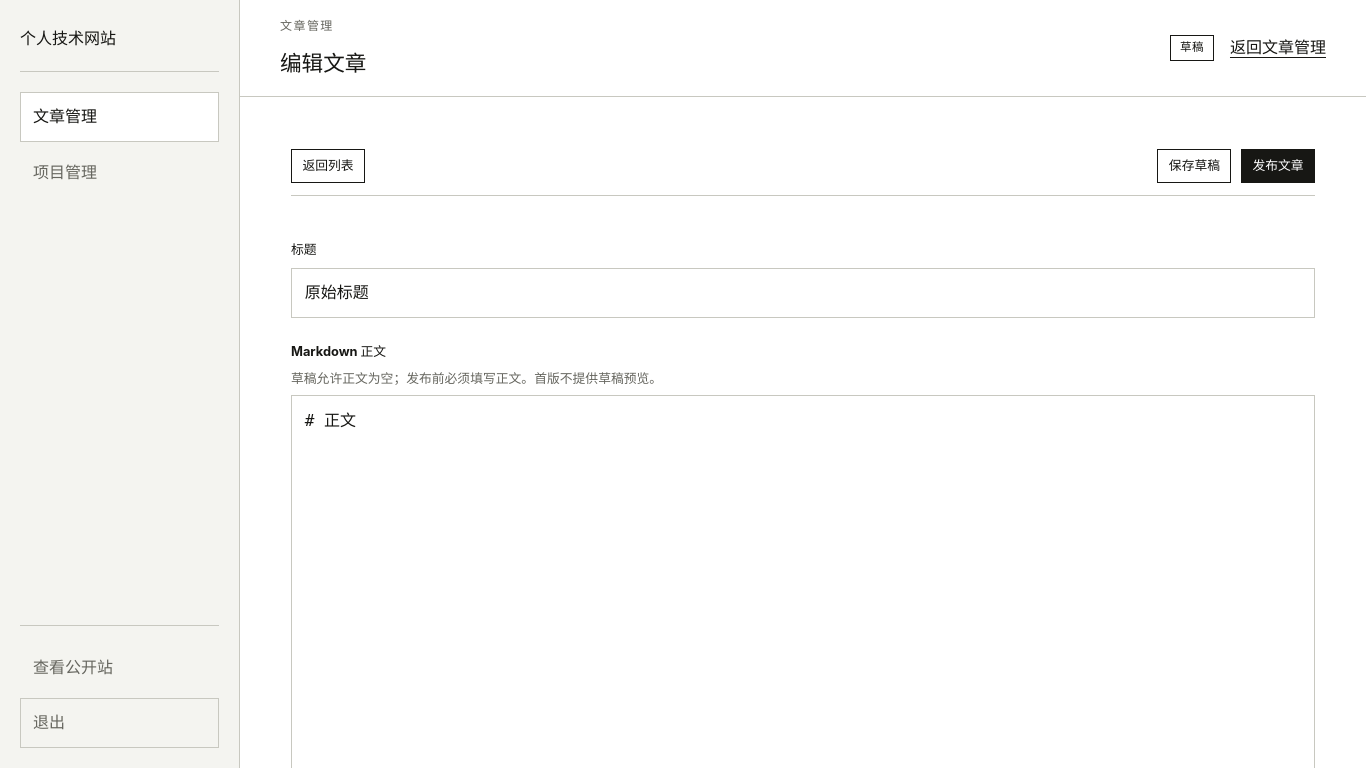
Test: 管理端路由页面 › 版本冲突读取服务器当前版本并保留表单输入
The width and height of the screenshot is (1366, 768).
Replace the text in the field with id "article-title" with "本地修改标题" at coordinates (803, 293), box [291,268,1315,318]
(page scrolled)
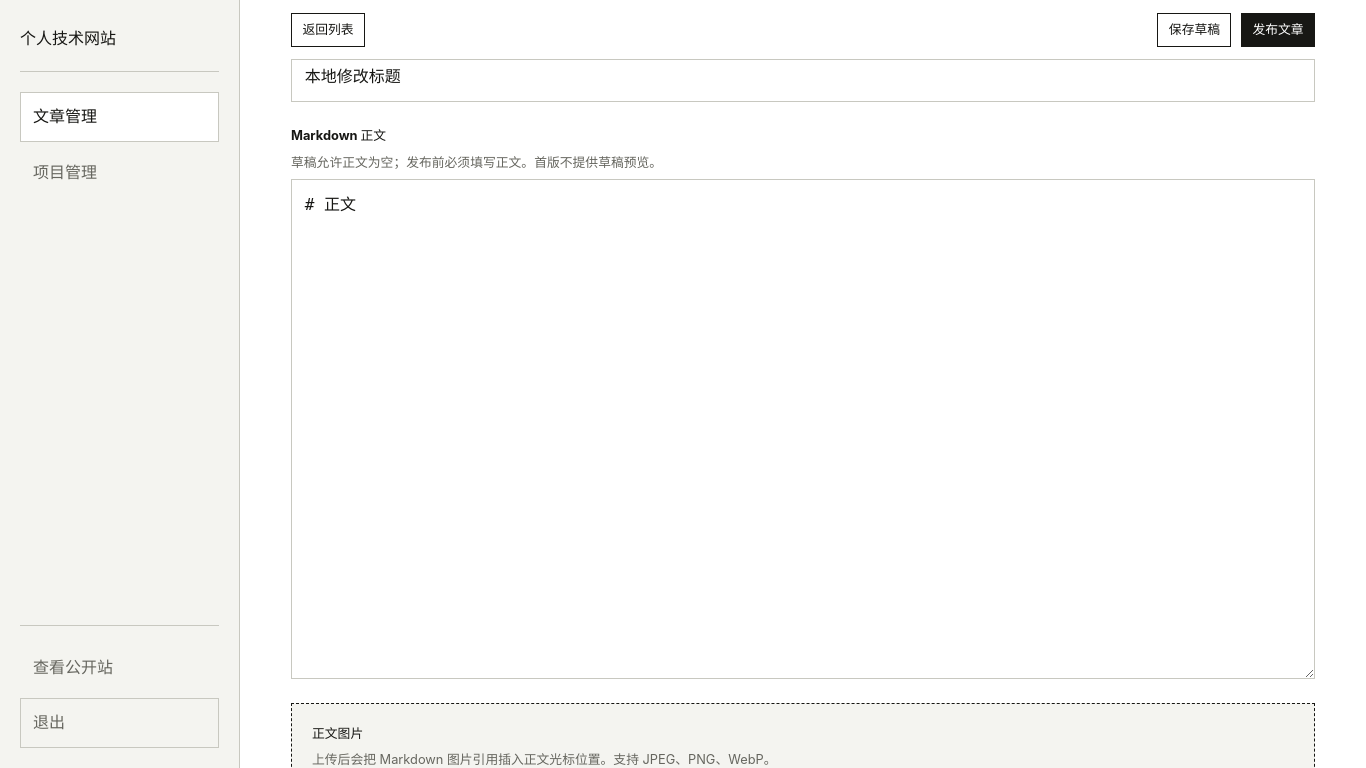
Submit the form
(page scrolled)
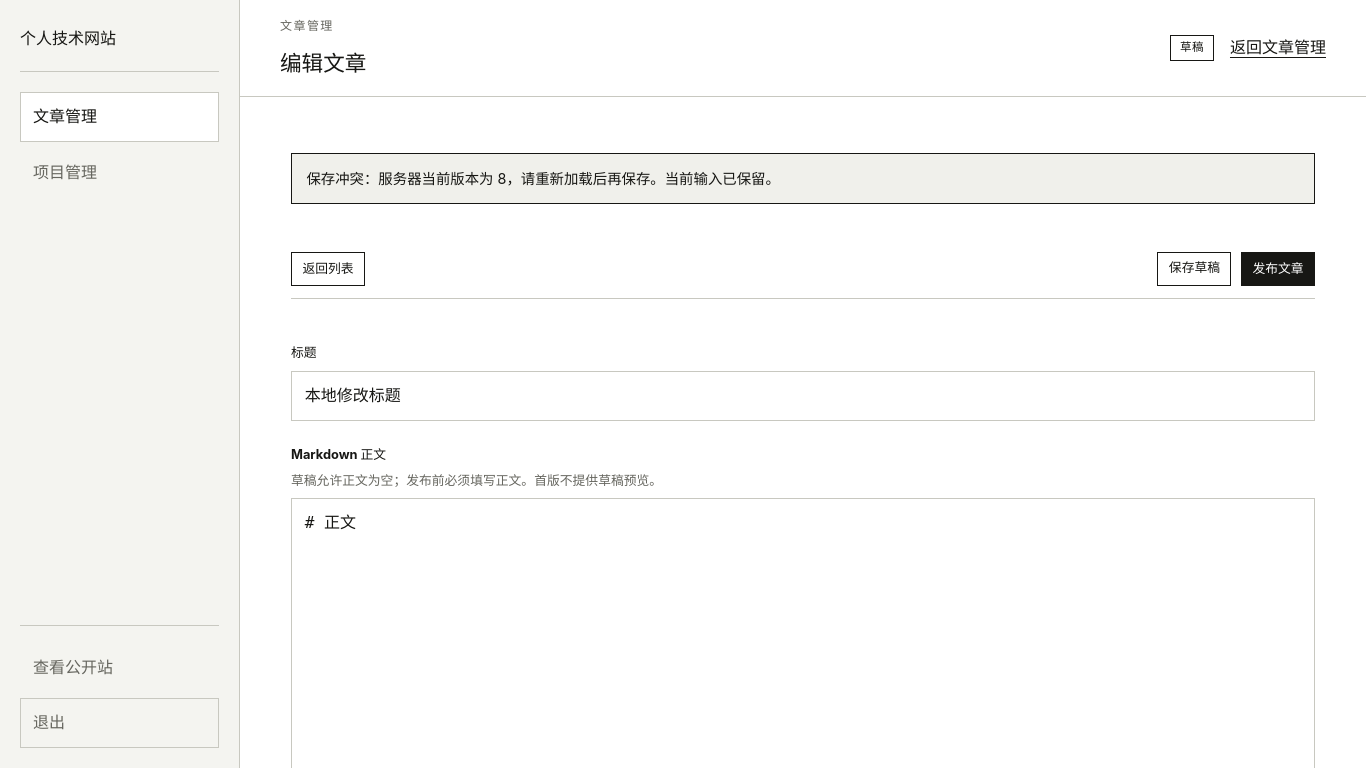
Expected: the message "保存冲突：服务器当前版本为 8，请重新加载后再保存。当前输入已保留。" is shown, [291,153,1315,204]
